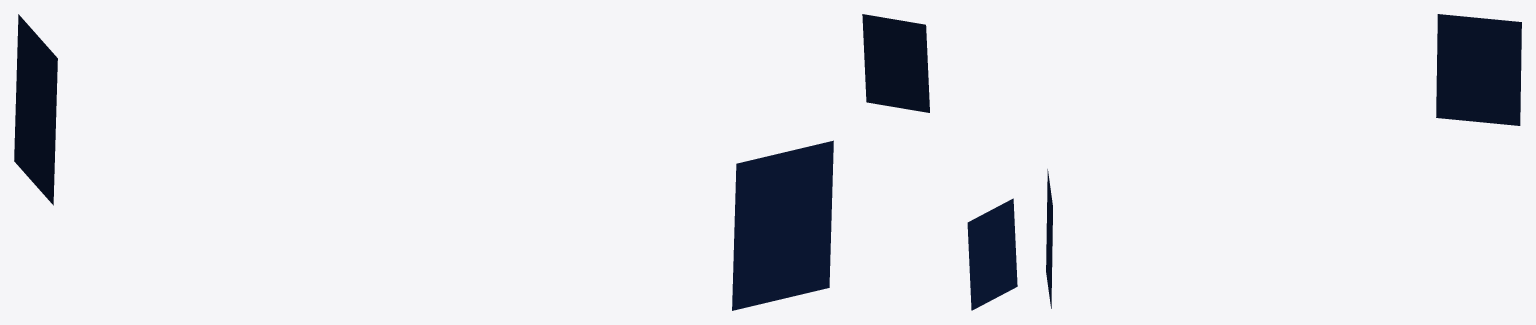
3 views of the same model, side by side, from view 1: azimuth 30°, elevation 25°; view 2: azimuth 150°, elevation 25°; view 3: azimuth 270°, elevation 25° (orthographic). The views are drawn at different scales.
Visible parts, largest first — view 1: Cube.742; view 2: Cube.742; view 3: Cube.742.
Boxes of the visible parts, x1,y1,x2,y2 form: Cube.742: [14, 14, 833, 310]; Cube.742: [862, 14, 1017, 310]; Cube.742: [1046, 14, 1521, 308].
Bounding box in the file's own units: 997 × 293 × 1086.
